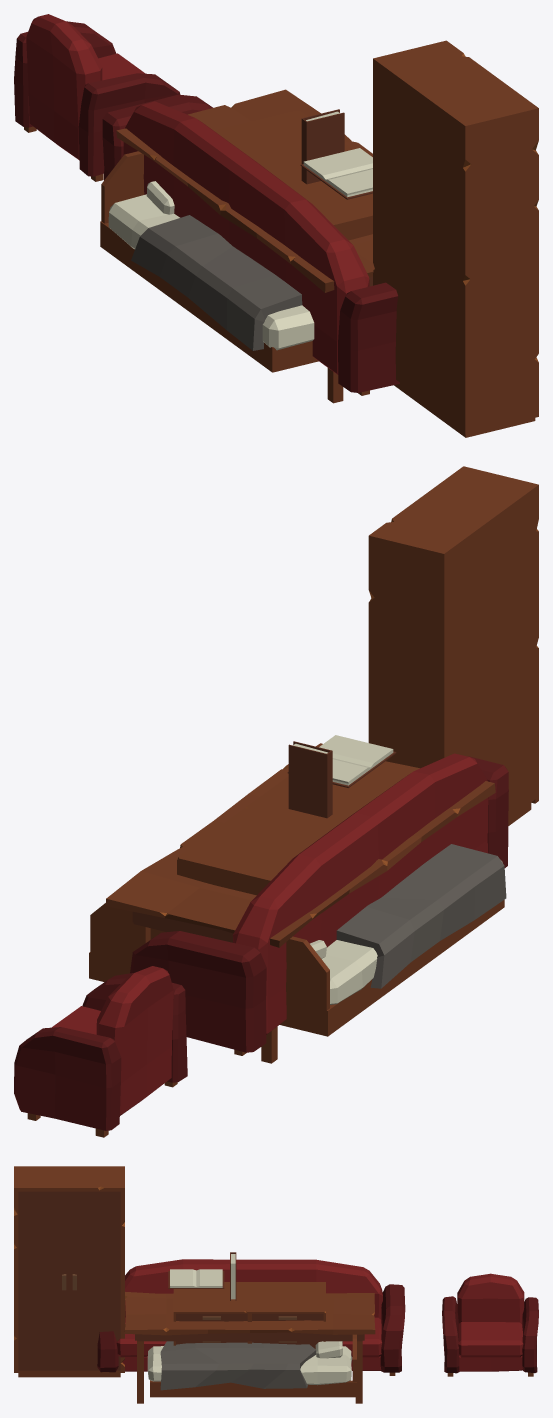
The model's file is Кімната.fbx.
3 renders of one model, top to bottom at view 1: azimuth 30°, elevation 25°; view 2: azimuth 150°, elevation 25°; view 3: azimuth 270°, elevation 25°, orthographic. The views are drawn at different scales.
Parts seen in each view (by area): view 1: Шафи, Диван, Ліжко, Крісло, Стіл, Шафи.001, Книги, Книги.001; view 2: Шафи, Диван, Ліжко, Крісло, Стіл, Шафи.001, Книги.001, Книги; view 3: Ліжко, Диван, Куб.009, Стіл, Куб.012, Крісло, Шафи, Шафи.001, Книги, Куб.014, Куб.019, Книги.001.
Part boxes in pixels (bbox=[...]): Шафи: bbox=[373, 40, 538, 437]; Диван: bbox=[102, 94, 399, 395]; Ліжко: bbox=[100, 151, 318, 372]; Крісло: bbox=[14, 14, 180, 181]; Стіл: bbox=[116, 89, 374, 403]; Шафи.001: bbox=[214, 110, 372, 240]; Книги: bbox=[300, 148, 372, 199]; Книги.001: bbox=[301, 109, 344, 184]; Шафи: bbox=[368, 466, 538, 825]; Диван: bbox=[130, 753, 508, 1055]; Ліжко: bbox=[89, 844, 506, 1036]; Крісло: bbox=[14, 966, 187, 1137]; Стіл: bbox=[106, 743, 495, 1063]; Шафи.001: bbox=[177, 776, 394, 895]; Книги.001: bbox=[288, 741, 332, 818]; Книги: bbox=[287, 735, 396, 787]; Ліжко: bbox=[147, 1334, 356, 1397]; Диван: bbox=[97, 1259, 405, 1375]; Куб.009: bbox=[18, 1191, 69, 1370]; Стіл: bbox=[124, 1292, 375, 1403]; Куб.012: bbox=[69, 1191, 120, 1370]; Крісло: bbox=[442, 1273, 538, 1376]; Шафи: bbox=[14, 1166, 124, 1377]; Шафи.001: bbox=[173, 1282, 325, 1345]; Книги: bbox=[168, 1269, 224, 1288]; Куб.014: bbox=[176, 1313, 247, 1321]; Куб.019: bbox=[252, 1313, 323, 1320]; Книги.001: bbox=[230, 1252, 236, 1300].
Bounding box in the file's own units: 449 × 582 × 1337.
